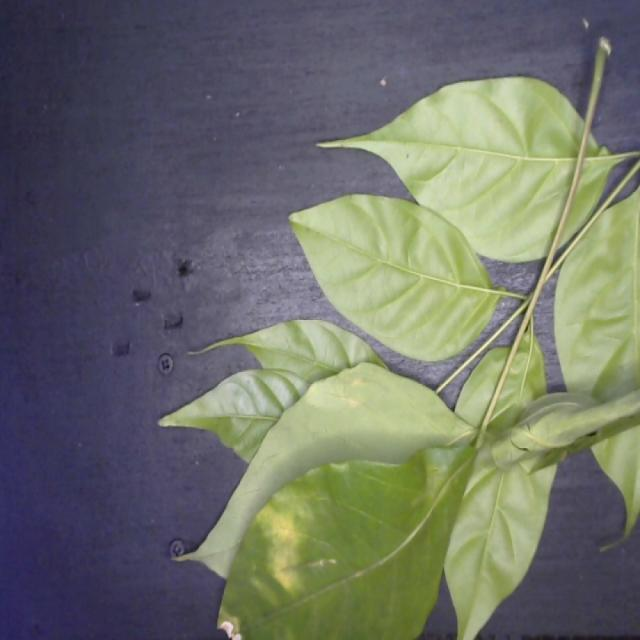biodegradable: (147, 70, 640, 640)
